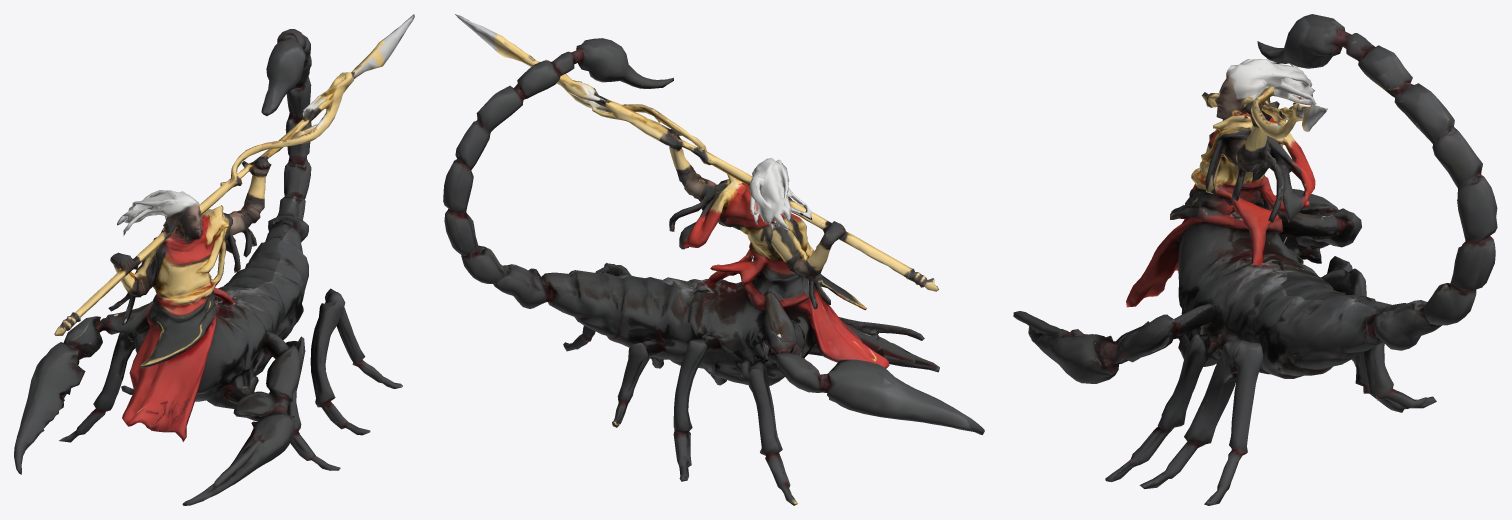
The model's file is Girtablilu.glb.
3 views of the same model, side by side, from view 1: azimuth 30°, elevation 25°; view 2: azimuth 150°, elevation 25°; view 3: azimuth 270°, elevation 25° (orthographic). The views are drawn at different scales.
Visible parts, largest first — view 1: Mesh_0; view 2: Mesh_0; view 3: Mesh_0.
Boxes of the visible parts, x1,y1,x2,y2 form: Mesh_0: (14, 14, 414, 505); Mesh_0: (443, 14, 984, 505); Mesh_0: (1013, 14, 1497, 505).
Bounding box in the file's own units: 3.82 × 3 × 2.71.
1 material, 1 textured.
